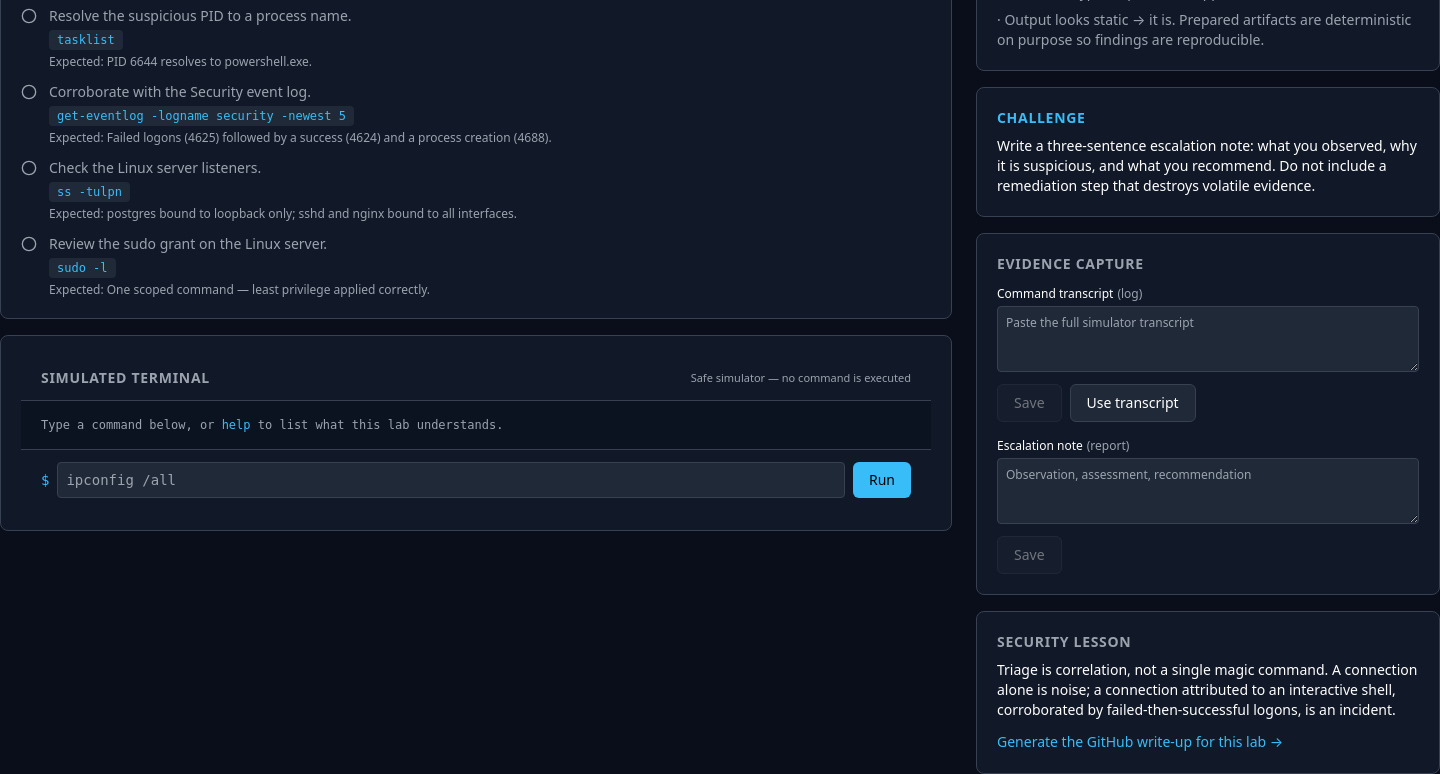
LabView › refuses a command outside the allowlist without executing it
(page scrolled)
Type "rm -rf /" into the field named "Simulated command input" at (451, 480), box x1=57 y1=462 x2=845 y2=498
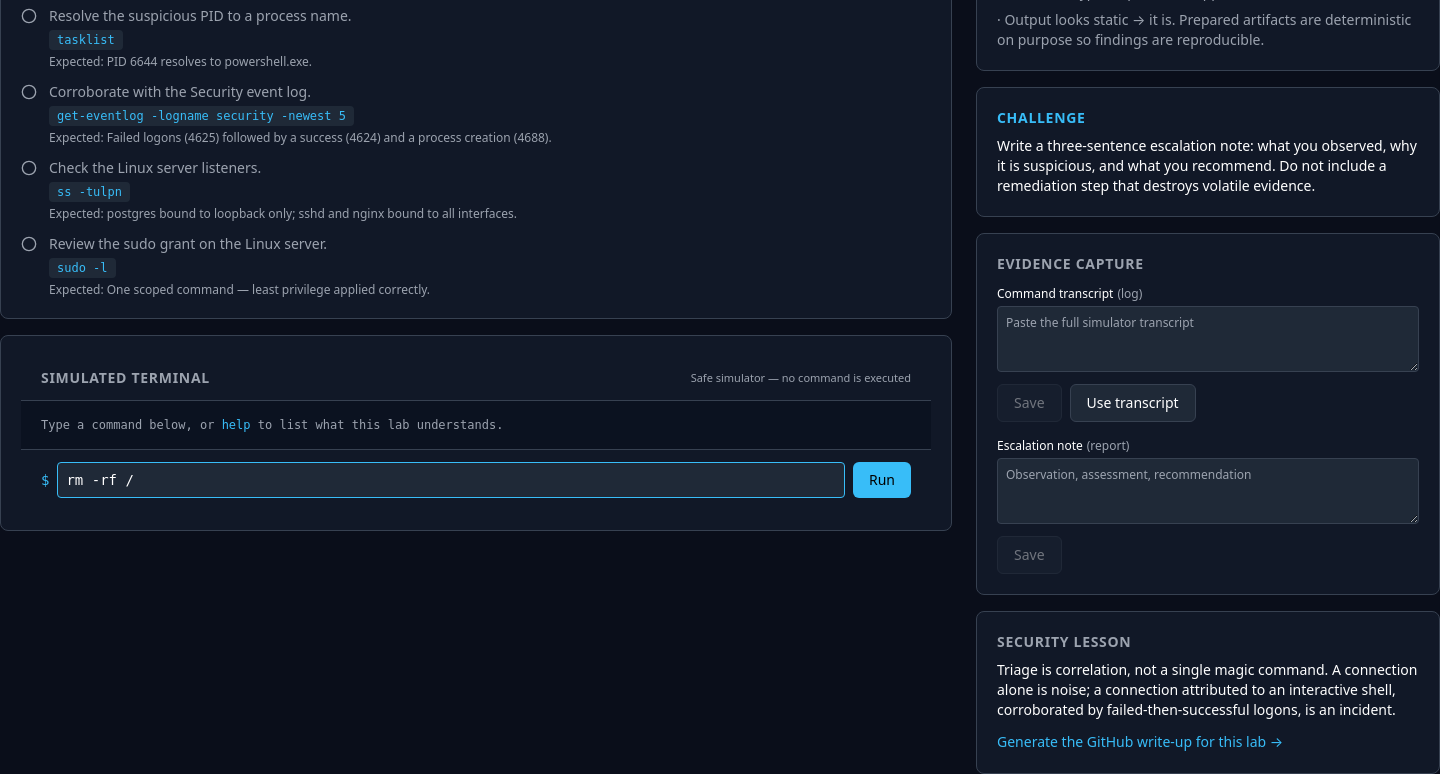
Click the button "Run" at (882, 480), box x1=853 y1=462 x2=911 y2=498
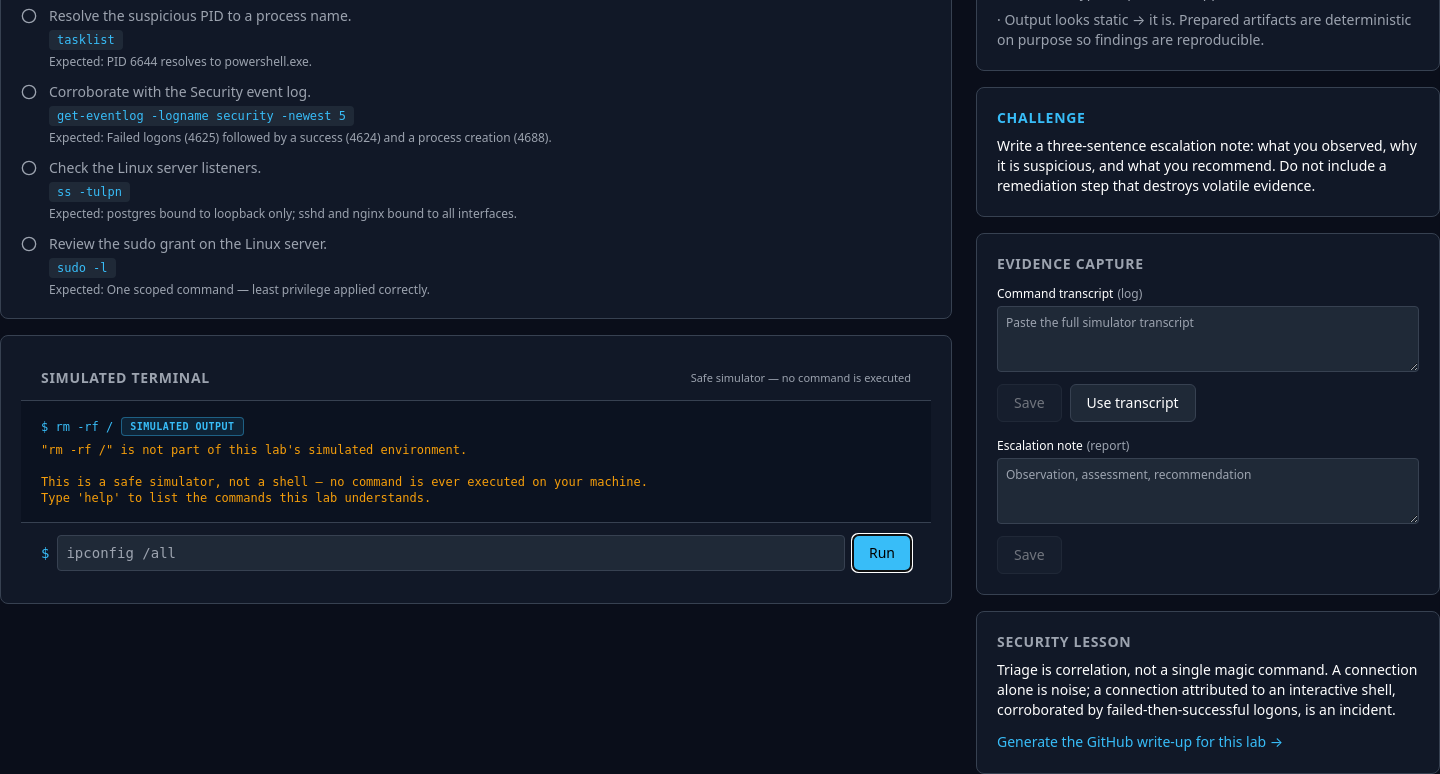
Check: the text "no command is ever executed on your machine" is shown, box x1=41 y1=443 x2=648 y2=505
